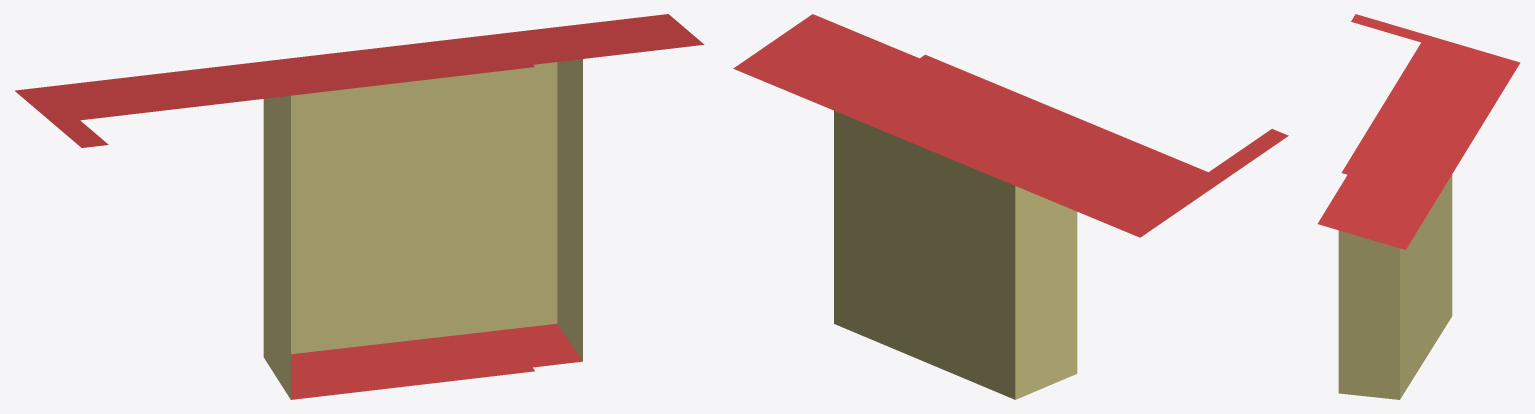
3 renders of one model, left to right at view 1: azimuth 30°, elevation 25°; view 2: azimuth 150°, elevation 25°; view 3: azimuth 270°, elevation 25°, orthographic. The views are drawn at different scales.
Bounding box in the file's own units: 19.15 × 8 × 9.49.
